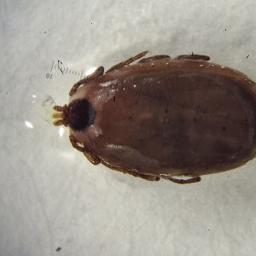Rhipicephalus sanguineus: (52, 50, 255, 184)
